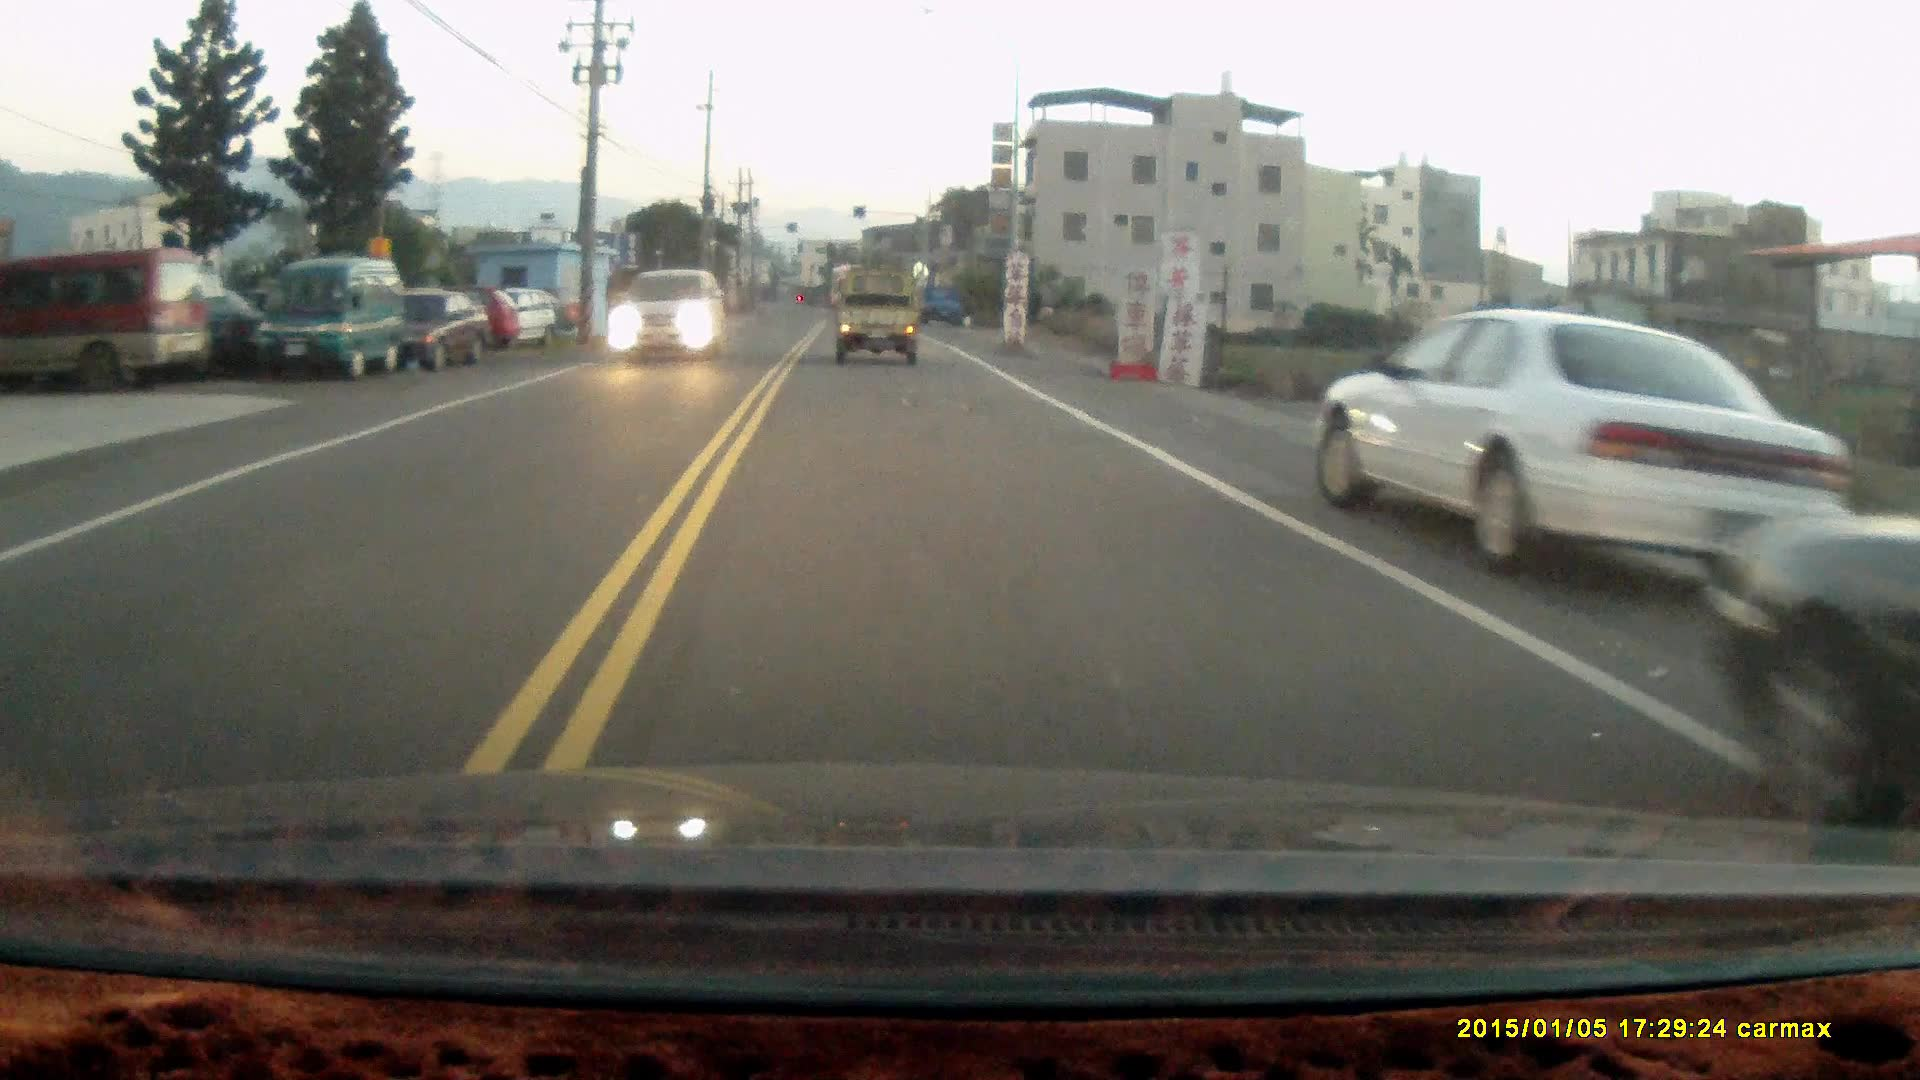vehicle: (1312, 310, 1861, 603), (1713, 483, 1919, 810), (1, 251, 215, 386), (255, 257, 407, 380), (605, 269, 728, 371), (833, 280, 923, 373), (409, 291, 495, 376), (484, 294, 553, 359)
